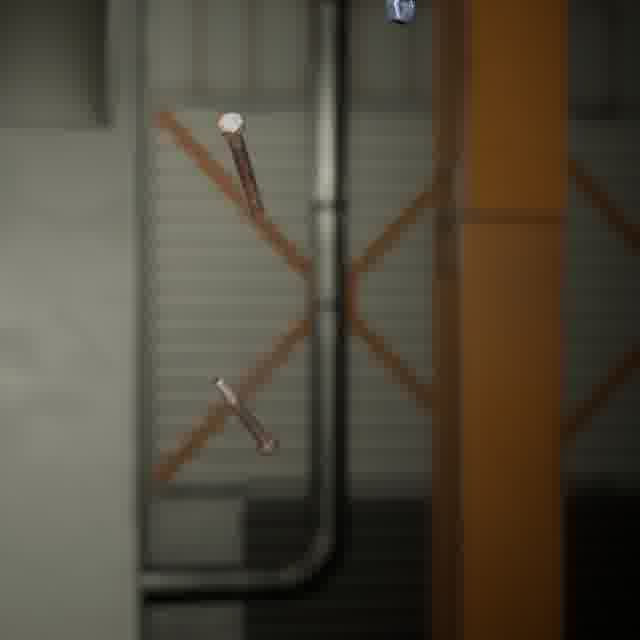bolt: (208, 371, 284, 461), (212, 108, 269, 224)
nut: (381, 0, 421, 29)
